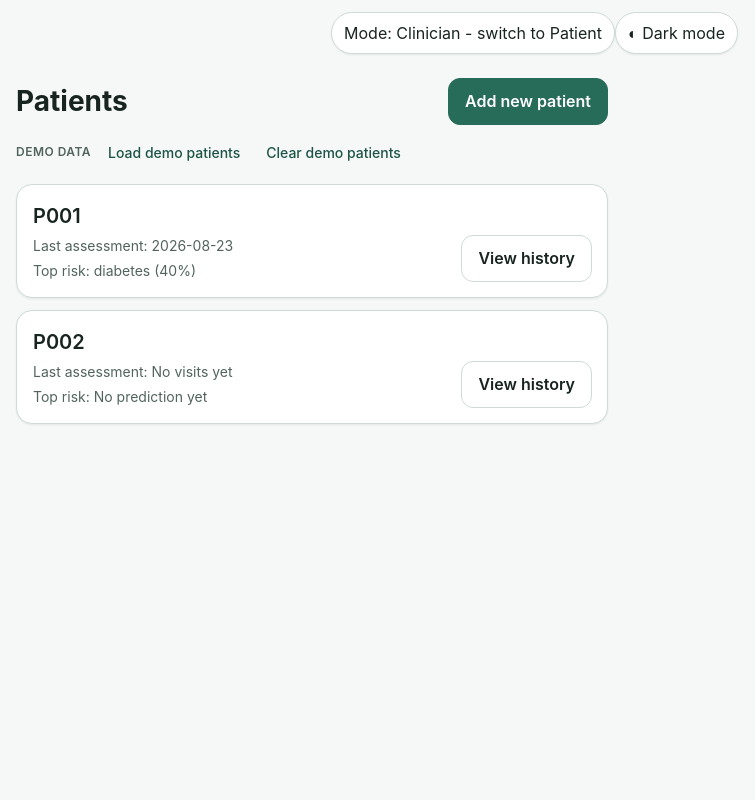
App clinician patient list › lists saved patients and lets a clinician select one
Click the button with class "clinician-patient-list-select" that starts with "P001" at (57, 216), box 16,184 -> 608,298
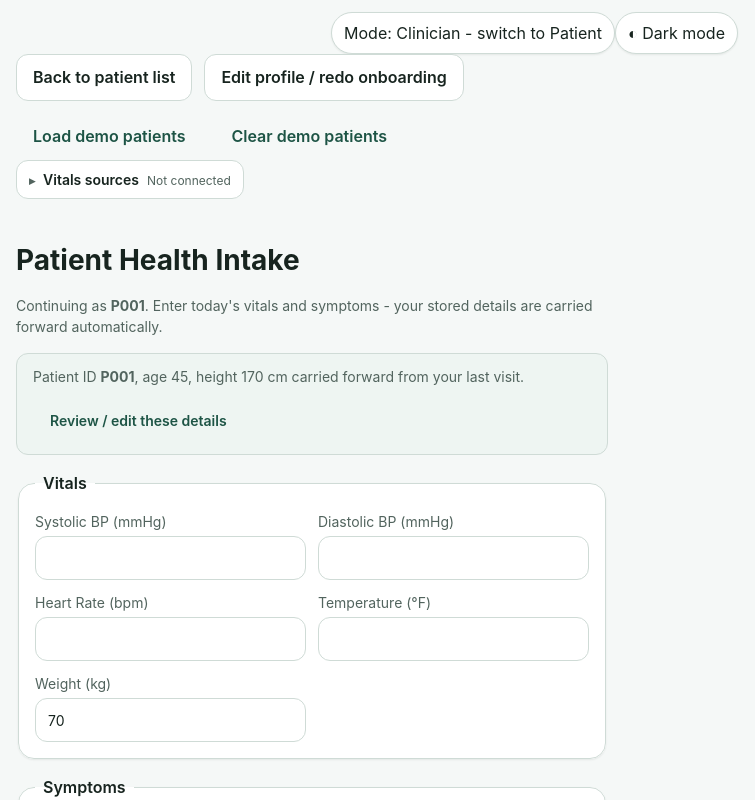
Check: the text "P001" is shown, box 111,297 -> 145,314
Check: the text "Continuing as" is shown, box 16,297 -> 111,314
